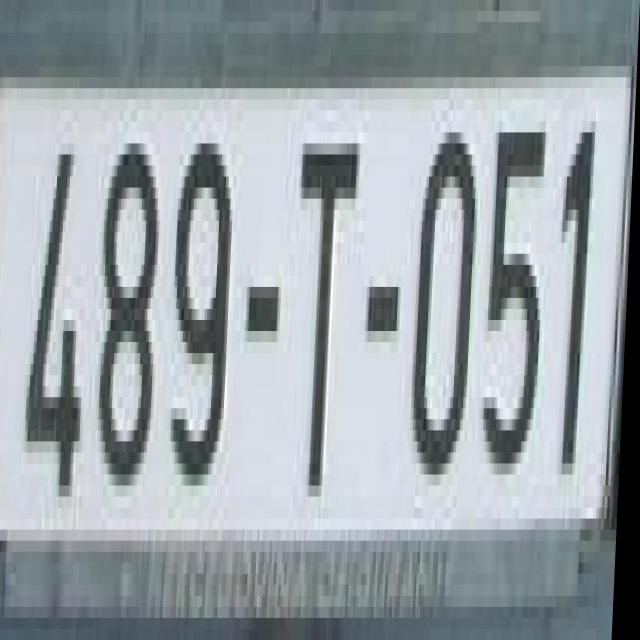0: (410, 110, 480, 486)
1: (556, 132, 602, 486)
4: (17, 144, 107, 540)
5: (482, 121, 547, 496)
8: (94, 143, 164, 508)
9: (165, 122, 235, 486)
T: (288, 100, 366, 474)
